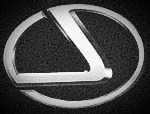Lexus: (2, 2, 147, 111)
